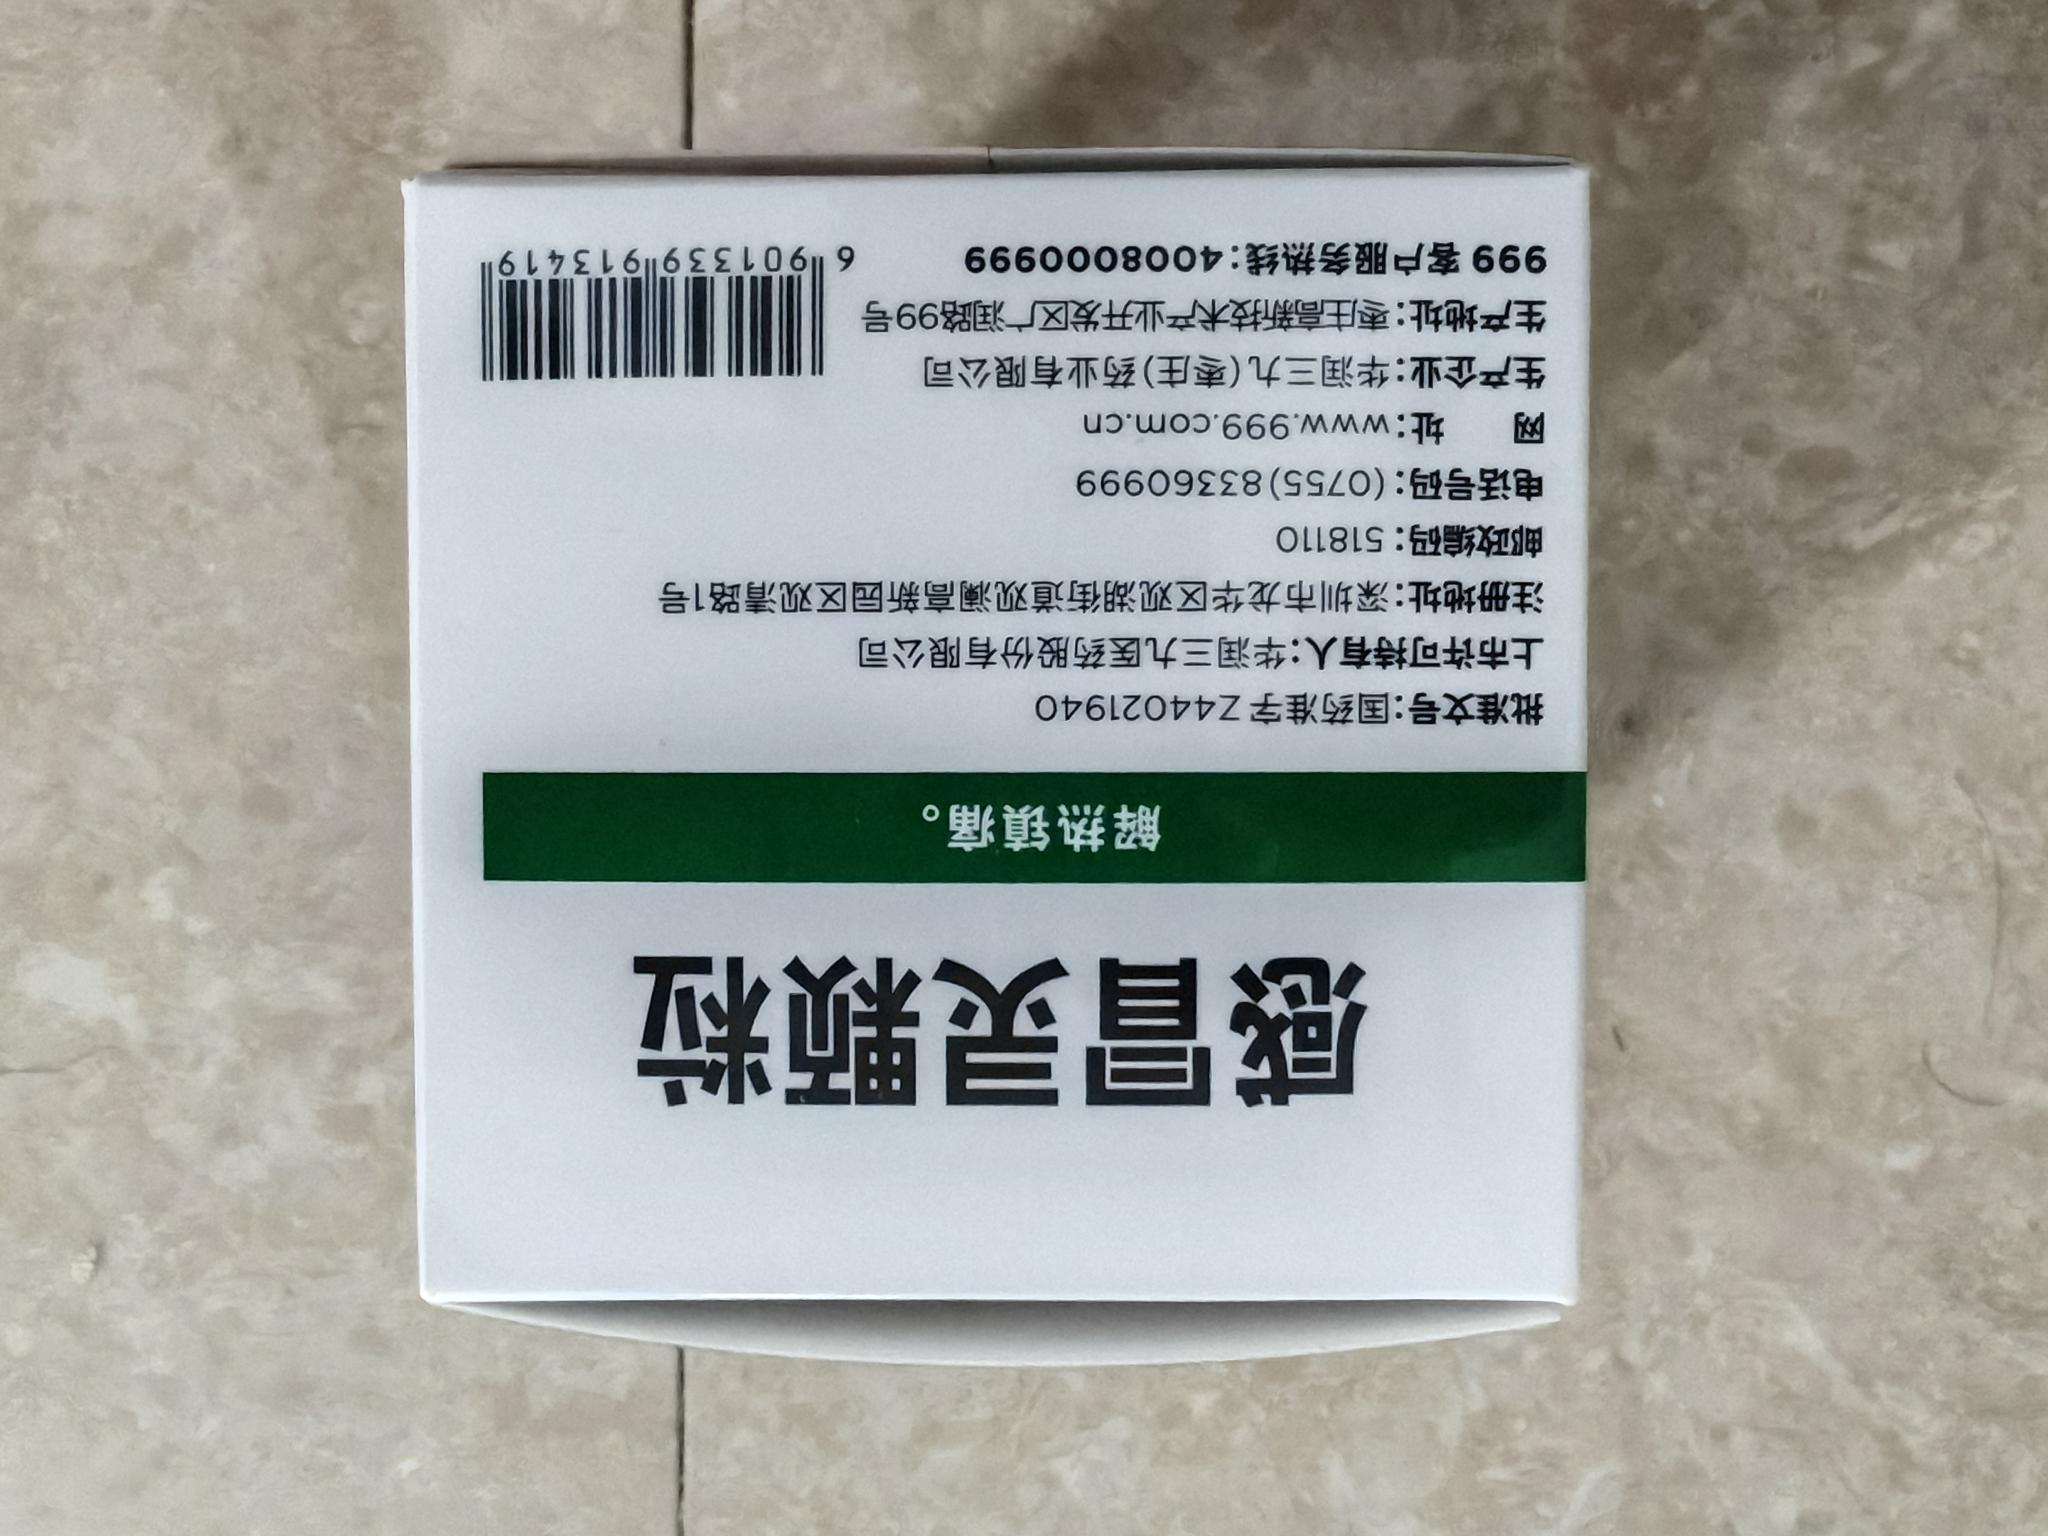Medicine3: (377, 131, 1627, 1386)
